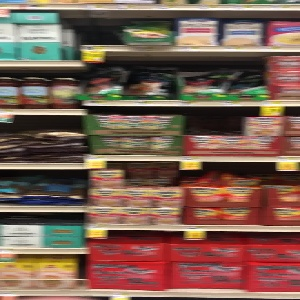void: (75, 15, 123, 49)
